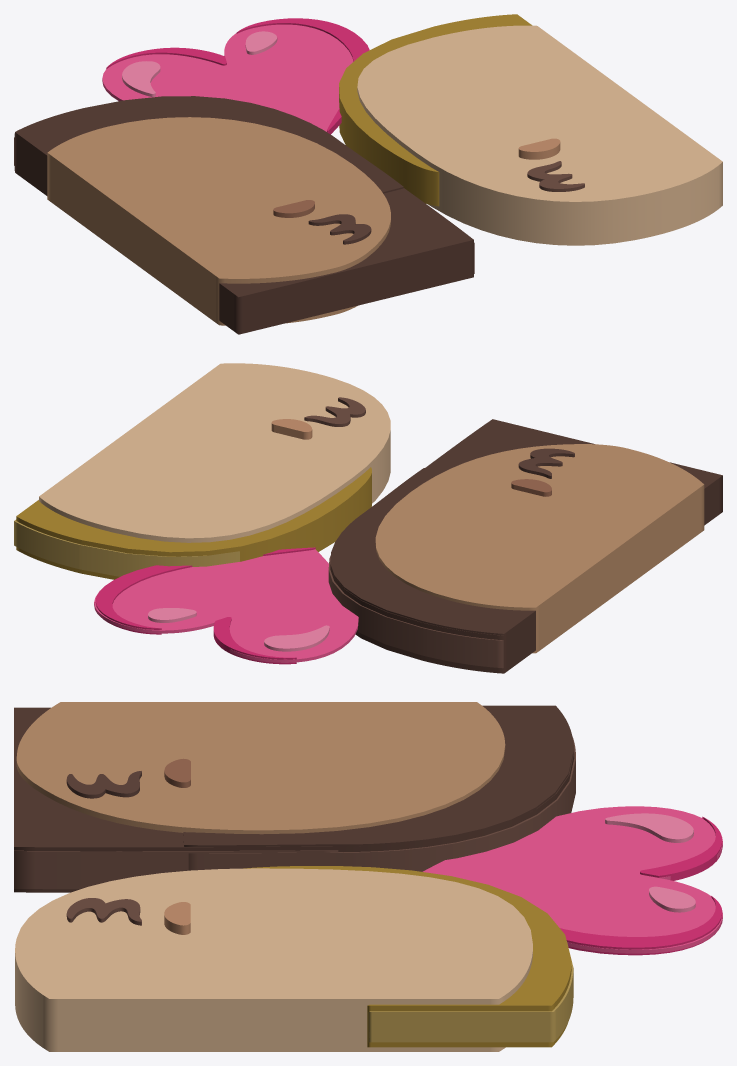
Rendered from emoji_u1f469_1f3fd_200d_2764_200d_1f48b_200d_1f468_1f3fc.glb.
3 renders of one model, top to bottom at view 1: azimuth 30°, elevation 25°; view 2: azimuth 150°, elevation 25°; view 3: azimuth 270°, elevation 25°, orthographic. The views are drawn at different scales.
Visible parts, largest first — view 1: emoji_u1f469_1f3fd_200d_2764_200d_1f48b_200d_1f468_1f3fc; view 2: emoji_u1f469_1f3fd_200d_2764_200d_1f48b_200d_1f468_1f3fc; view 3: emoji_u1f469_1f3fd_200d_2764_200d_1f48b_200d_1f468_1f3fc.
Boxes of the visible parts, bbox=[...] form: emoji_u1f469_1f3fd_200d_2764_200d_1f48b_200d_1f468_1f3fc: bbox=[14, 14, 722, 334]; emoji_u1f469_1f3fd_200d_2764_200d_1f48b_200d_1f468_1f3fc: bbox=[14, 363, 722, 673]; emoji_u1f469_1f3fd_200d_2764_200d_1f48b_200d_1f468_1f3fc: bbox=[14, 702, 722, 1051].
Size of the model in its own units: 0.0336 by 0.0038 by 0.0339.
